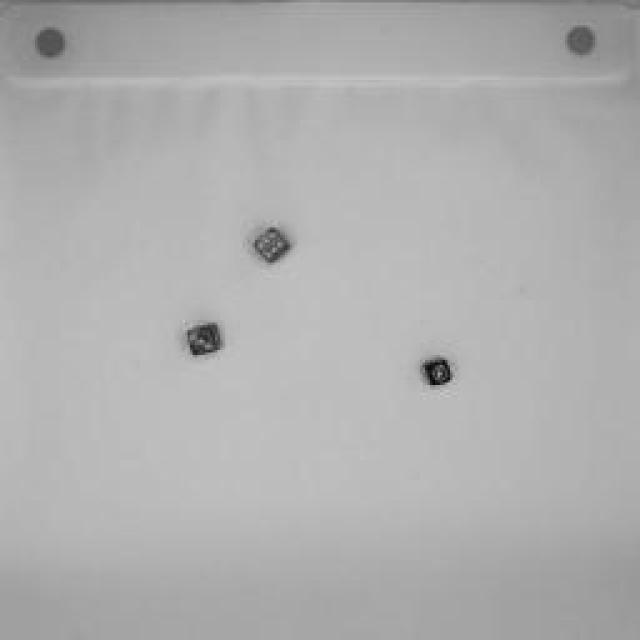dice_1: (416, 355, 459, 395)
dice_3: (179, 321, 226, 364)
dice_6: (248, 220, 298, 275)
